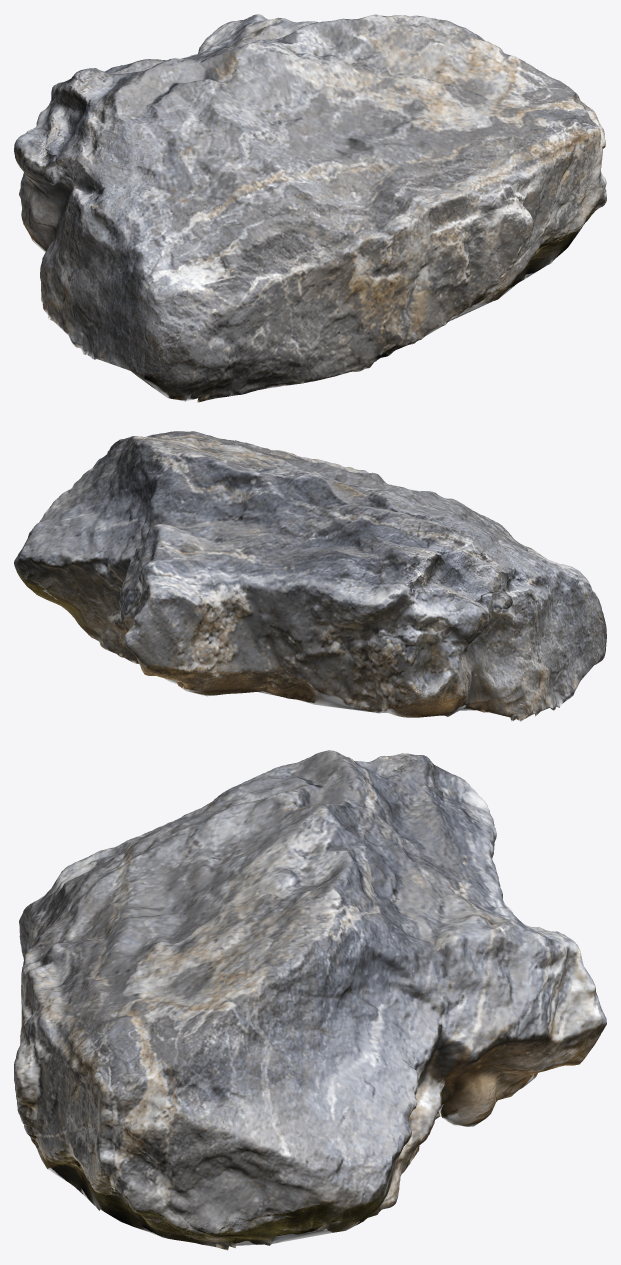
Rendered from sparse1.glb.
3 views of the same model, one above another, from view 1: azimuth 30°, elevation 25°; view 2: azimuth 150°, elevation 25°; view 3: azimuth 270°, elevation 25° (orthographic). The views are drawn at different scales.
Parts seen in each view (by area): view 1: Node; view 2: Node; view 3: Node.
Boxes of the visible parts, bbox=[...] form: Node: bbox=[14, 14, 606, 402]; Node: bbox=[14, 431, 606, 721]; Node: bbox=[14, 750, 606, 1250].
Bounding box in the file's own units: 5.43 × 2.44 × 4.14.
Materials: 1 (1 with a texture image).
